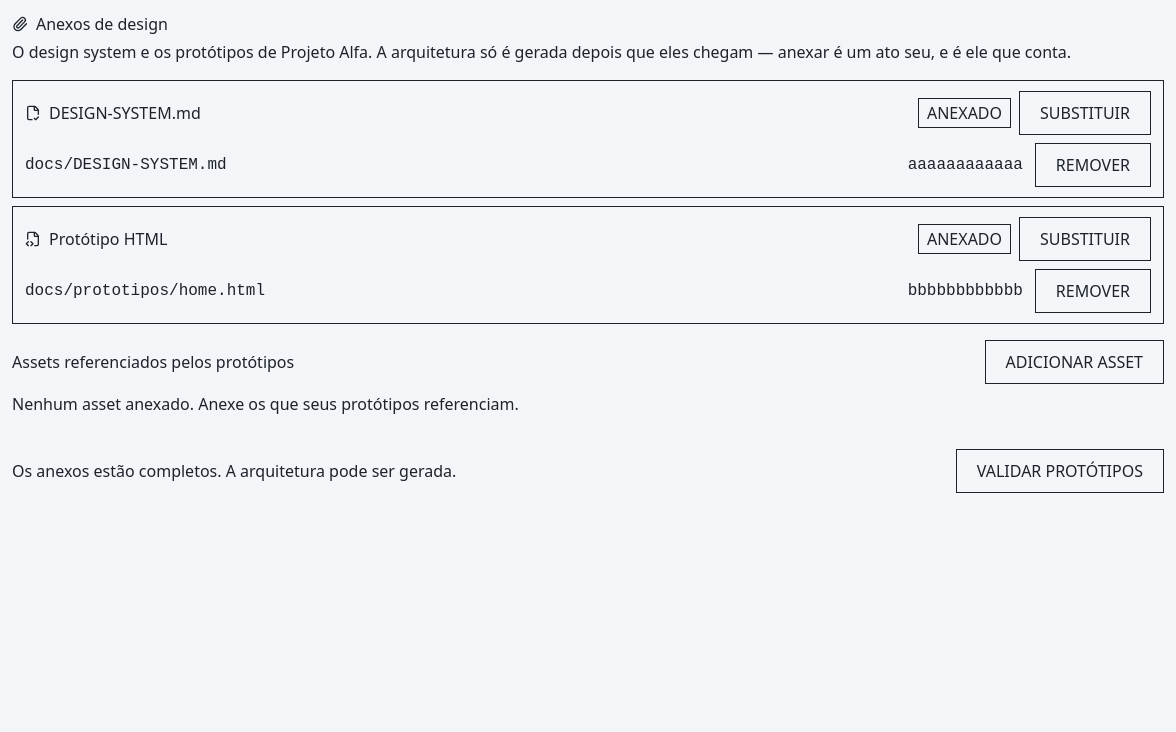
it: os achados da validação › mostra pergunta e recomendação, não veredito
expect the text "Os anexos estão completos. A arquitetura pode ser gerada." is shown: met, box 12,459 -> 456,483
Click the button "Validar protótipos": (1060, 471) 956,449 -> 1164,493
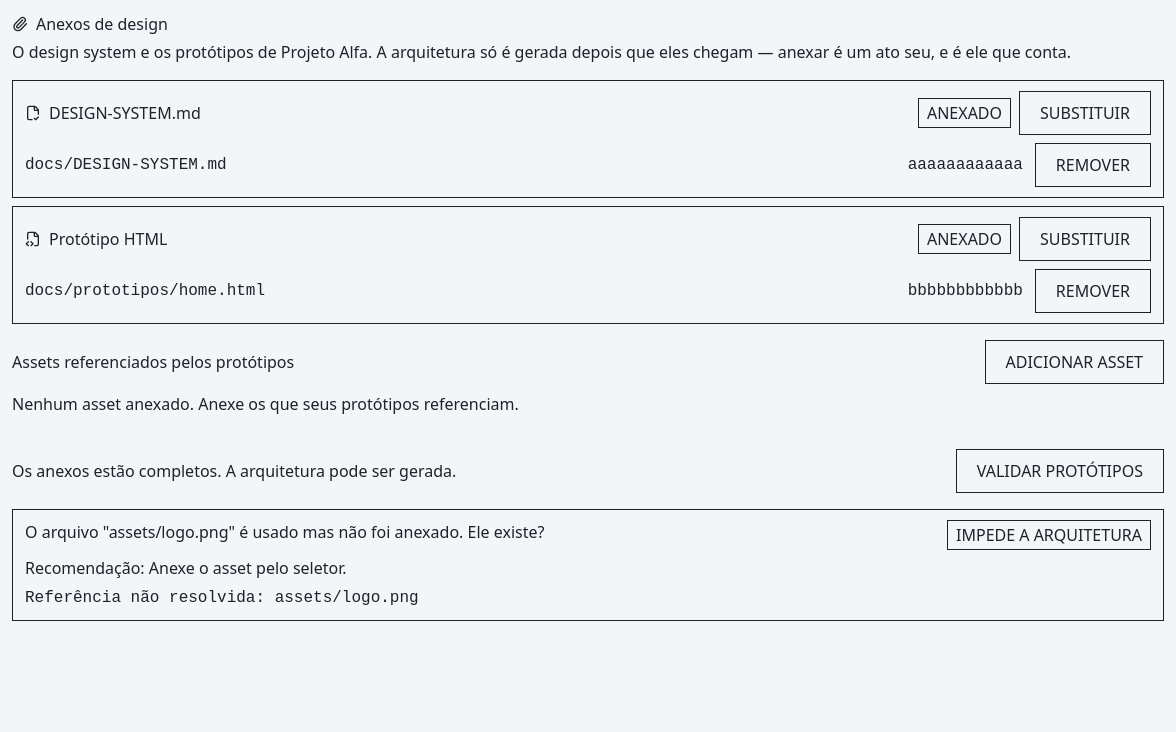
expect the text "Ele existe?" is shown: met, box 25,521 -> 544,543
expect the text "Recomendação: Anexe o asset pelo seletor." is shown: met, box 25,557 -> 346,579
expect the text "Impede a arquitetura" is shown: met, box 947,520 -> 1151,550
